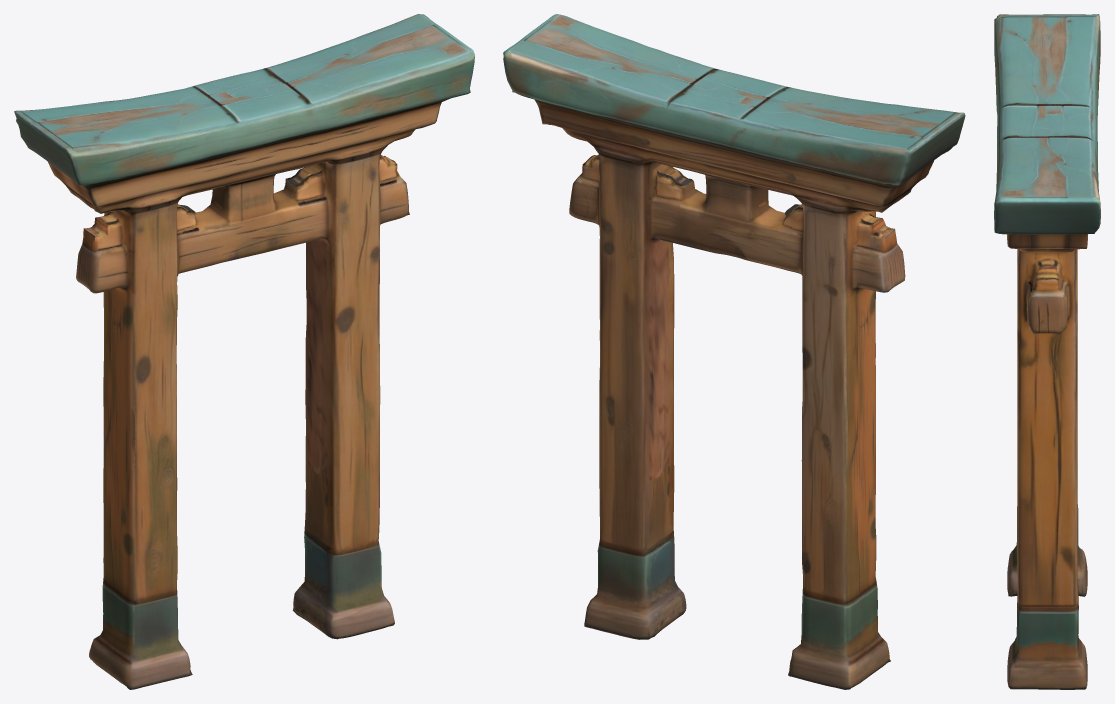
Rendered from wooden_gate.glb.
The picture shows the model from 3 angles, left to right: view 1: azimuth 30°, elevation 25°; view 2: azimuth 150°, elevation 25°; view 3: azimuth 270°, elevation 25°; orthographic projection. The views are drawn at different scales.
Visible parts, largest first — view 1: Mesh0; view 2: Mesh0; view 3: Mesh0.
Boxes of the visible parts, x1,y1,x2,y2 form: Mesh0: (14,14,474,689); Mesh0: (503,14,965,689); Mesh0: (994,14,1100,689).
Bounding box in the file's own units: 1.46 × 1.92 × 0.3538.
1 material, 1 textured.
